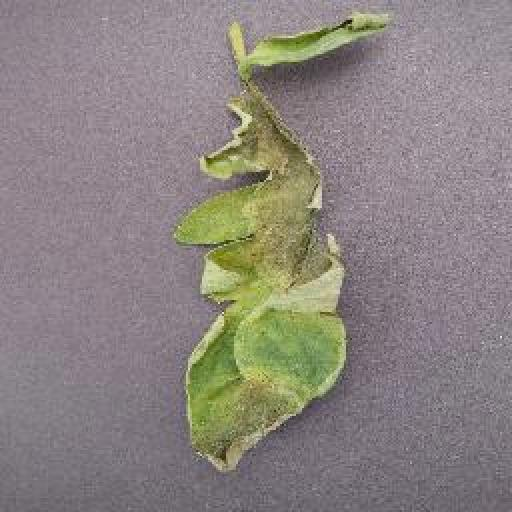disease_tomato: (170, 82, 346, 476), (254, 6, 392, 72)
